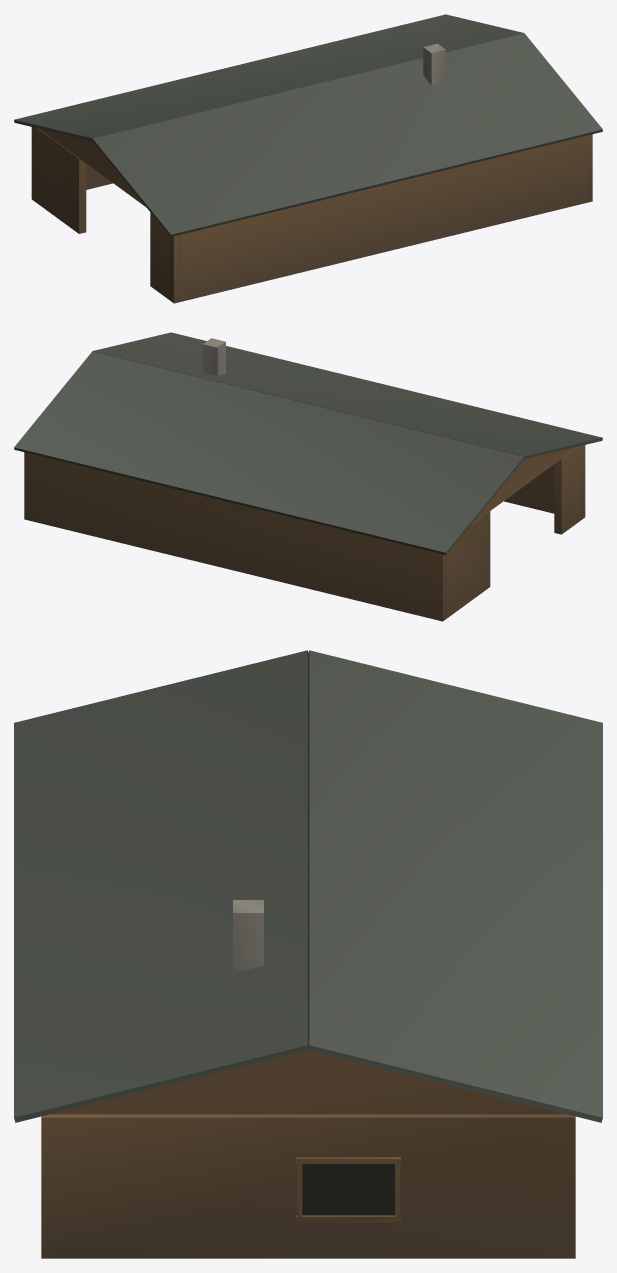
File: m01_rail_shed_intact_lod1.glb
3 renders of one model, top to bottom at view 1: azimuth 30°, elevation 25°; view 2: azimuth 150°, elevation 25°; view 3: azimuth 270°, elevation 25°, orthographic. The views are drawn at different scales.
Visible parts, largest first — view 1: rail_shed; view 2: rail_shed; view 3: rail_shed.
Boxes of the visible parts, x1,y1,x2,y2 form: rail_shed: [14, 14, 602, 303]; rail_shed: [14, 332, 602, 621]; rail_shed: [14, 650, 602, 1258].
Size of the model in its own units: 21.04 by 6.4 by 13.23.
